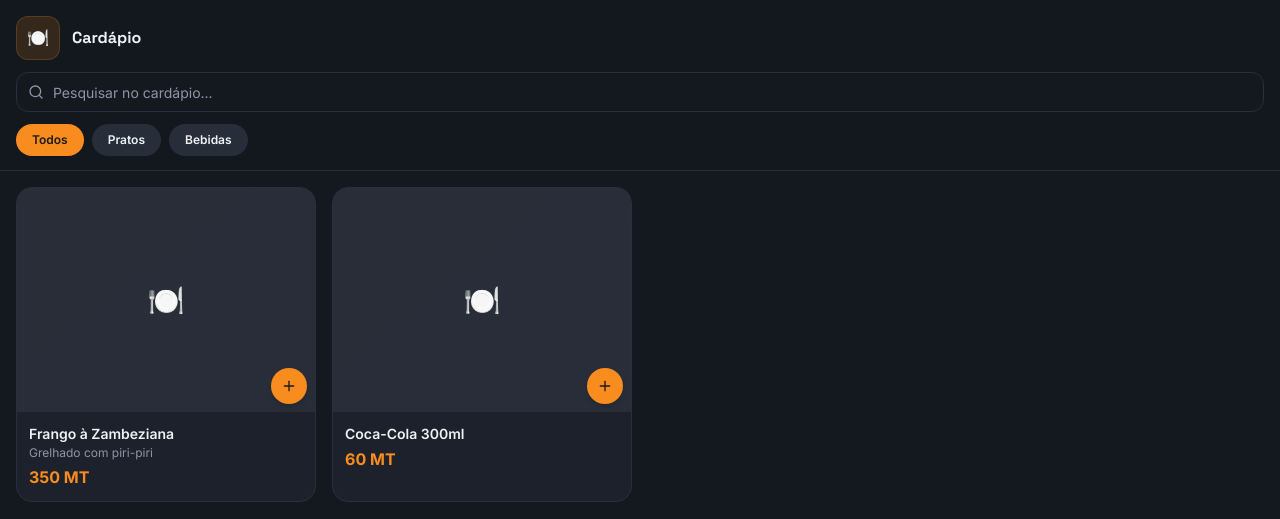
Pedido pelo cliente — mesa (QR) › pesquisa filtra o cardápio por nome
Step 1. Type "coca" into the field with placeholder "Pesquisar no cardápio..." → (640, 92), box [16, 72, 1264, 112]
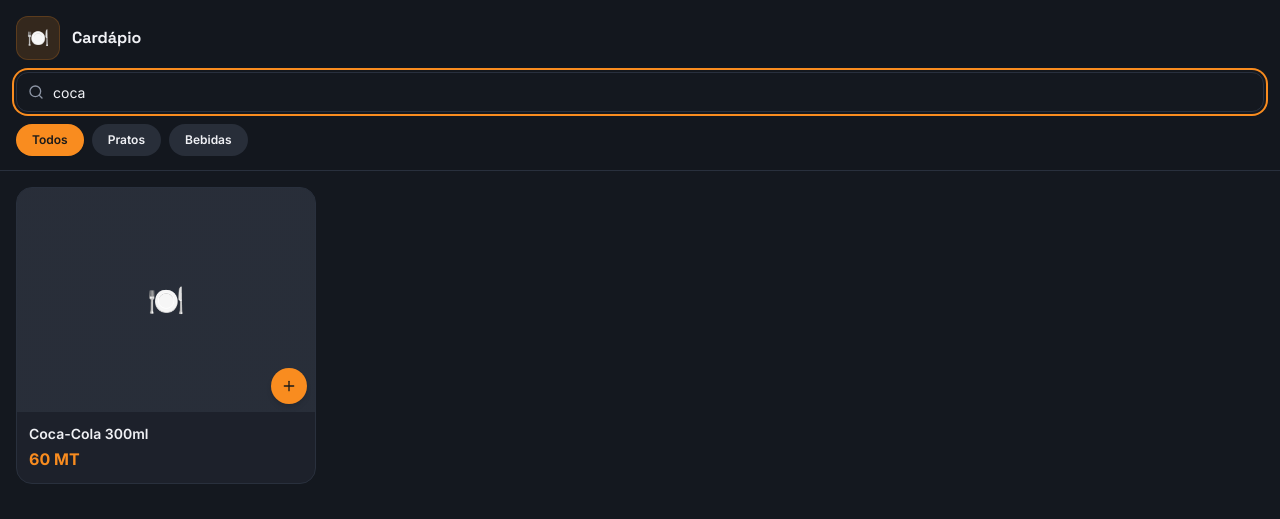
Expected: the text "Coca-Cola 300ml" is shown, [29, 424, 148, 442]
Expected: the button "Frango à Zambeziana" is gone
